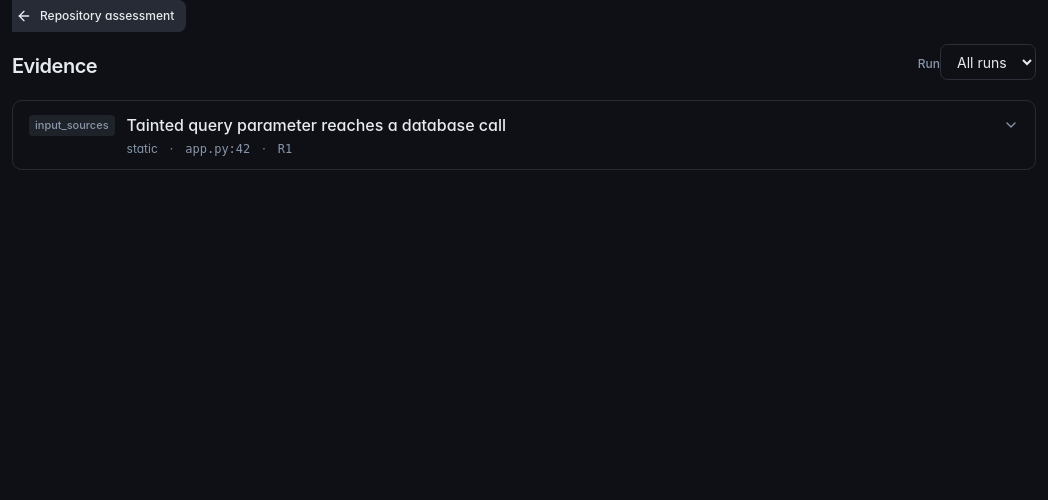
Test: AssessmentEvidencePage › lists evidence and expands to show the redacted detail
Click the button "Tainted query parameter reaches a database call": (72, 125) [13,101,1035,169]
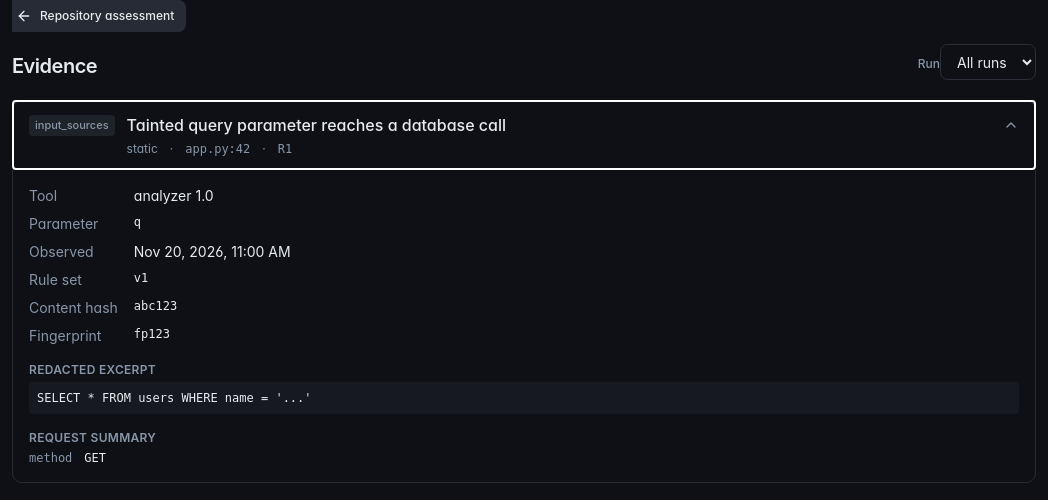
Expected: the text "Redacted excerpt" is shown, [29,362,156,377]
Expected: the text "SELECT * FROM users WHERE name = '...'" is shown, [29,382,1019,414]
